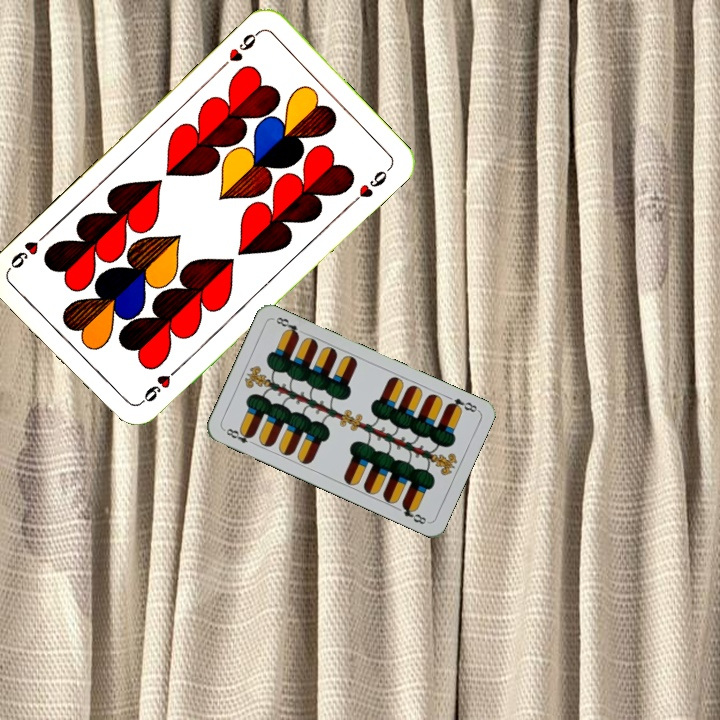E8: (220, 424, 258, 448), (443, 394, 481, 415)
H9: (135, 363, 183, 408), (217, 26, 263, 72)
